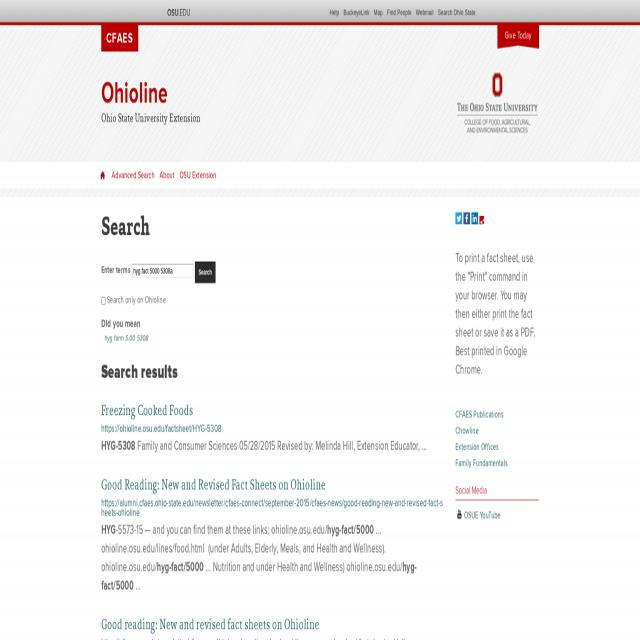button: (455, 70, 539, 135), (497, 26, 539, 50), (101, 26, 138, 52), (195, 262, 215, 283), (479, 212, 486, 224), (456, 213, 462, 224), (464, 213, 470, 224), (472, 213, 478, 224), (100, 170, 105, 180)
field: (132, 264, 194, 277), (101, 296, 105, 304)
